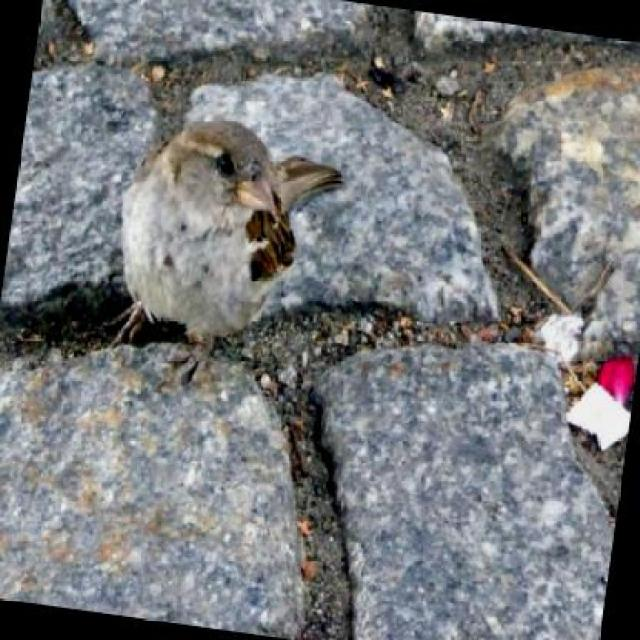sparrow: (105, 108, 349, 349)
